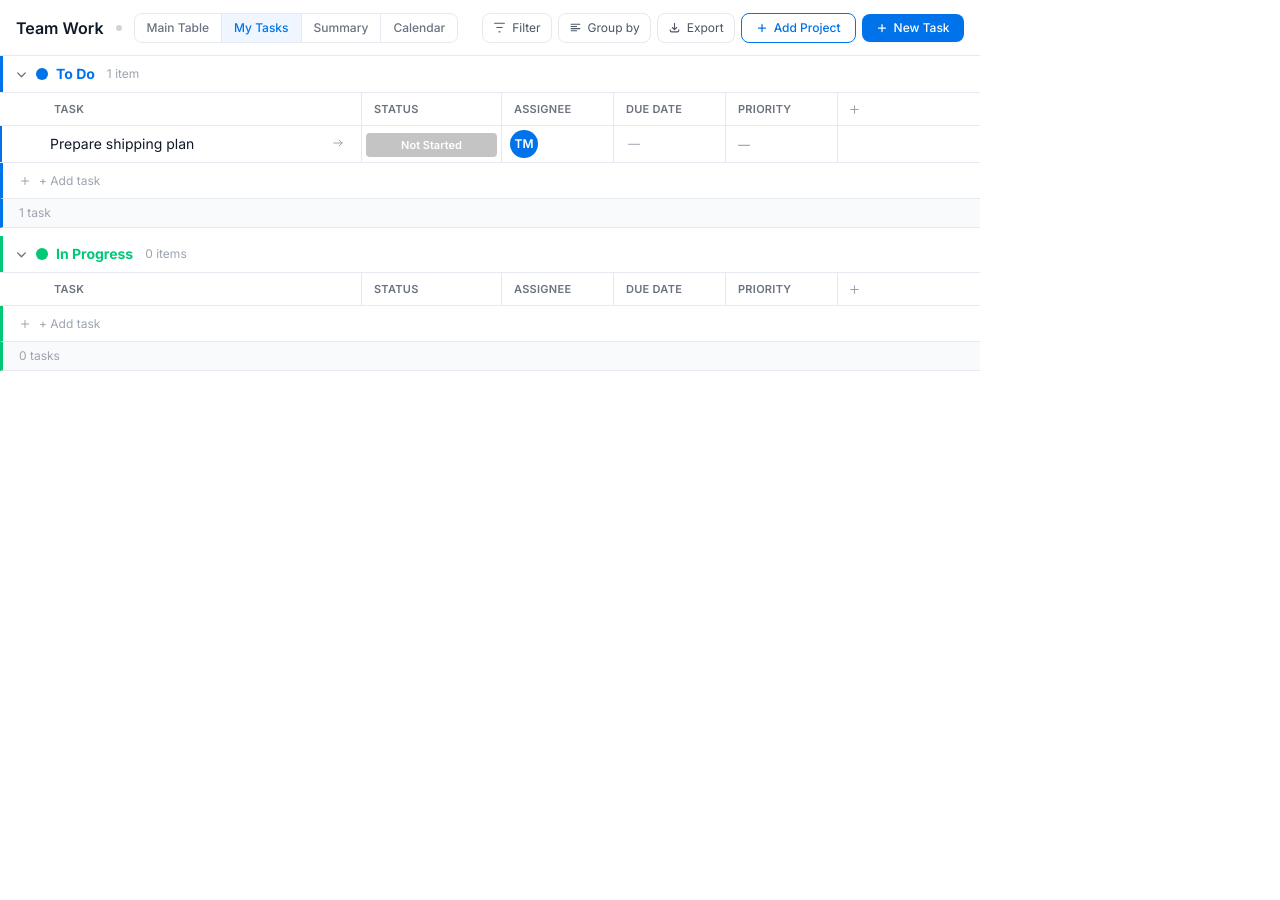
Test: moving tasks between projects through the board UI › opens task details from its name and keeps title editing in the details panel
Click the button "Prepare shipping plan" at (186, 144), box [50, 134, 323, 154]
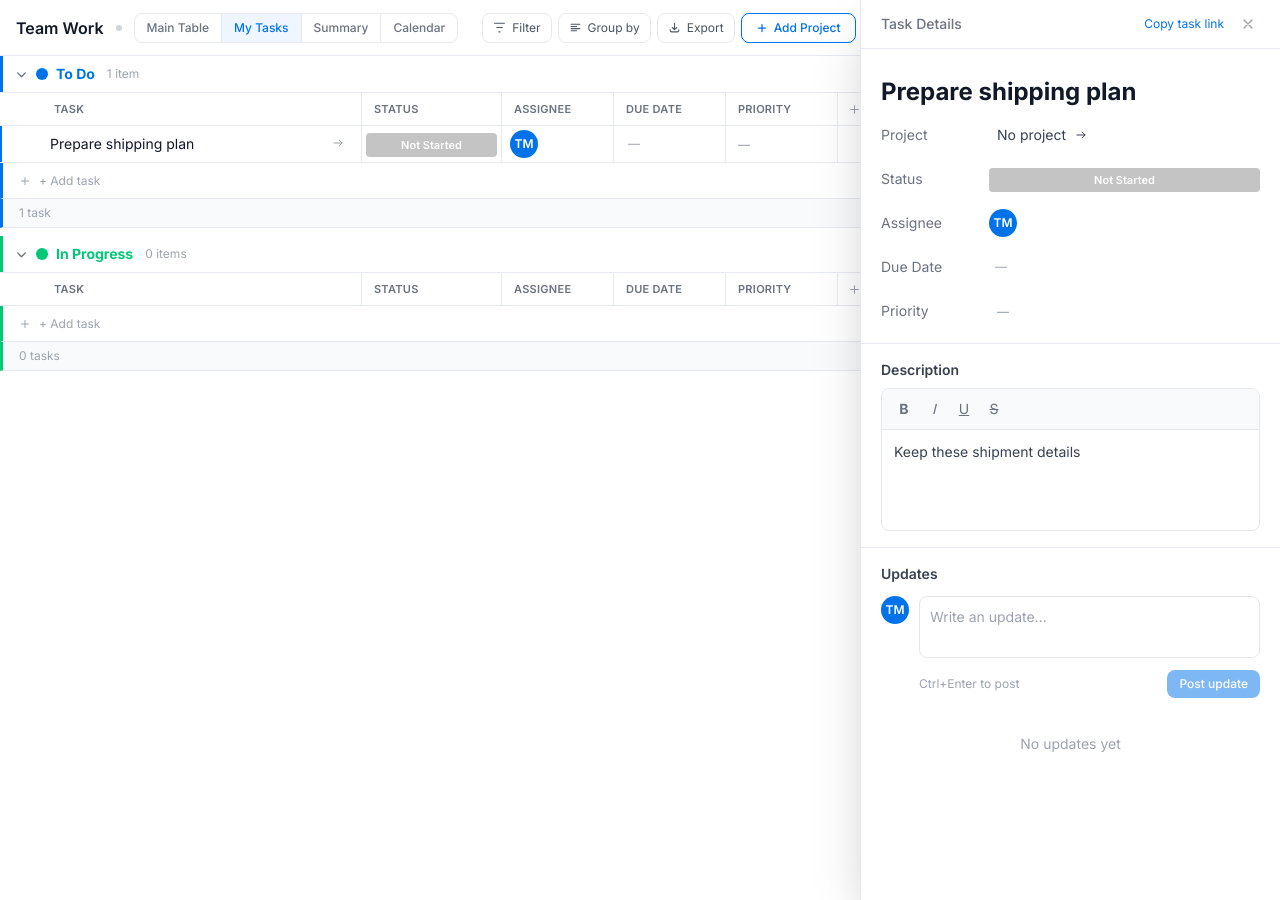
expect the text "Task Details" is shown: met, box [881, 14, 962, 34]
Click the button "Prepare shipping plan" below "Task Details" at (1070, 92), box [881, 77, 1260, 107]
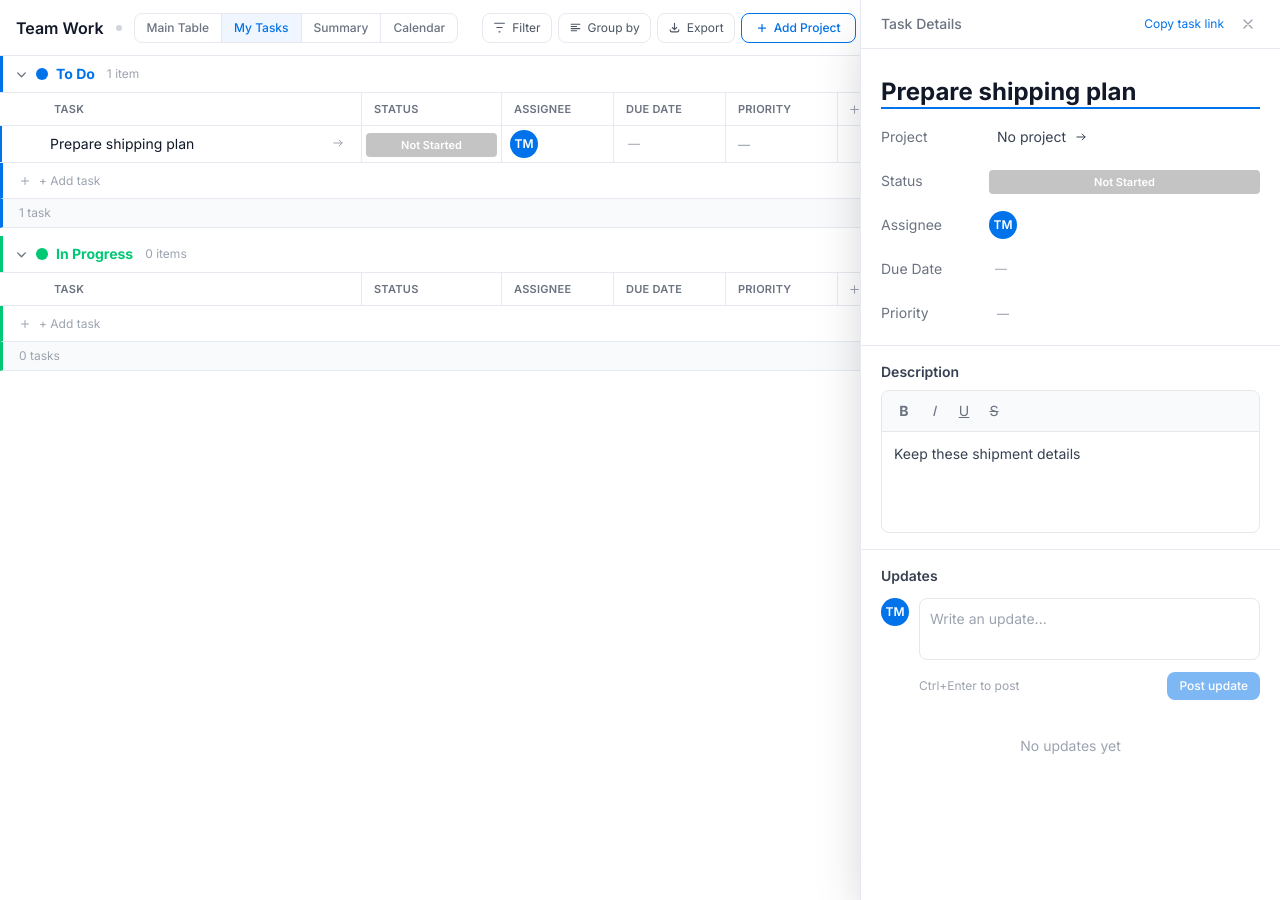
Replace the text in the field named "Task name" with "Updated shipping plan" at (1070, 93), box [881, 77, 1260, 109]
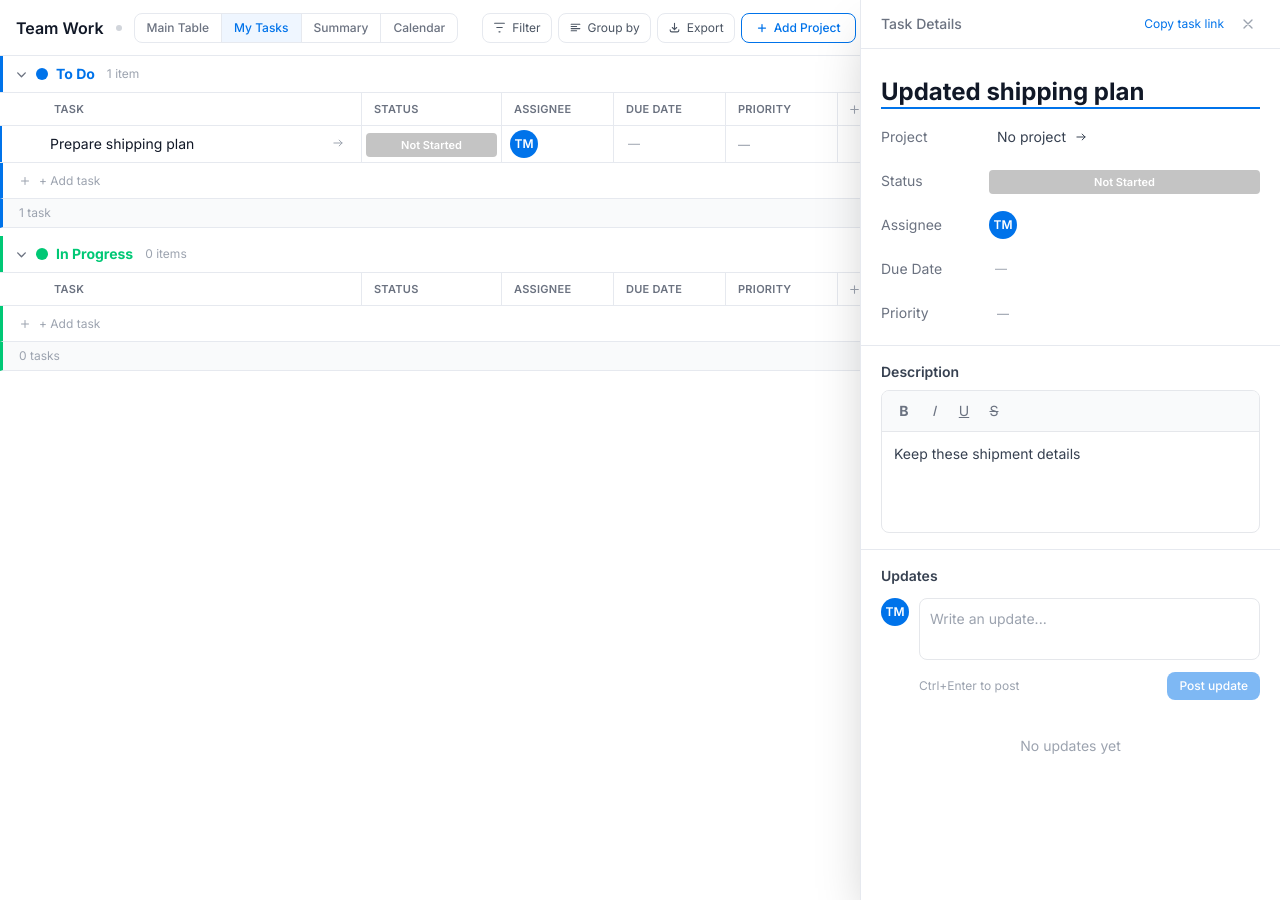
Press Enter in the field named "Task name", box [881, 77, 1260, 109]
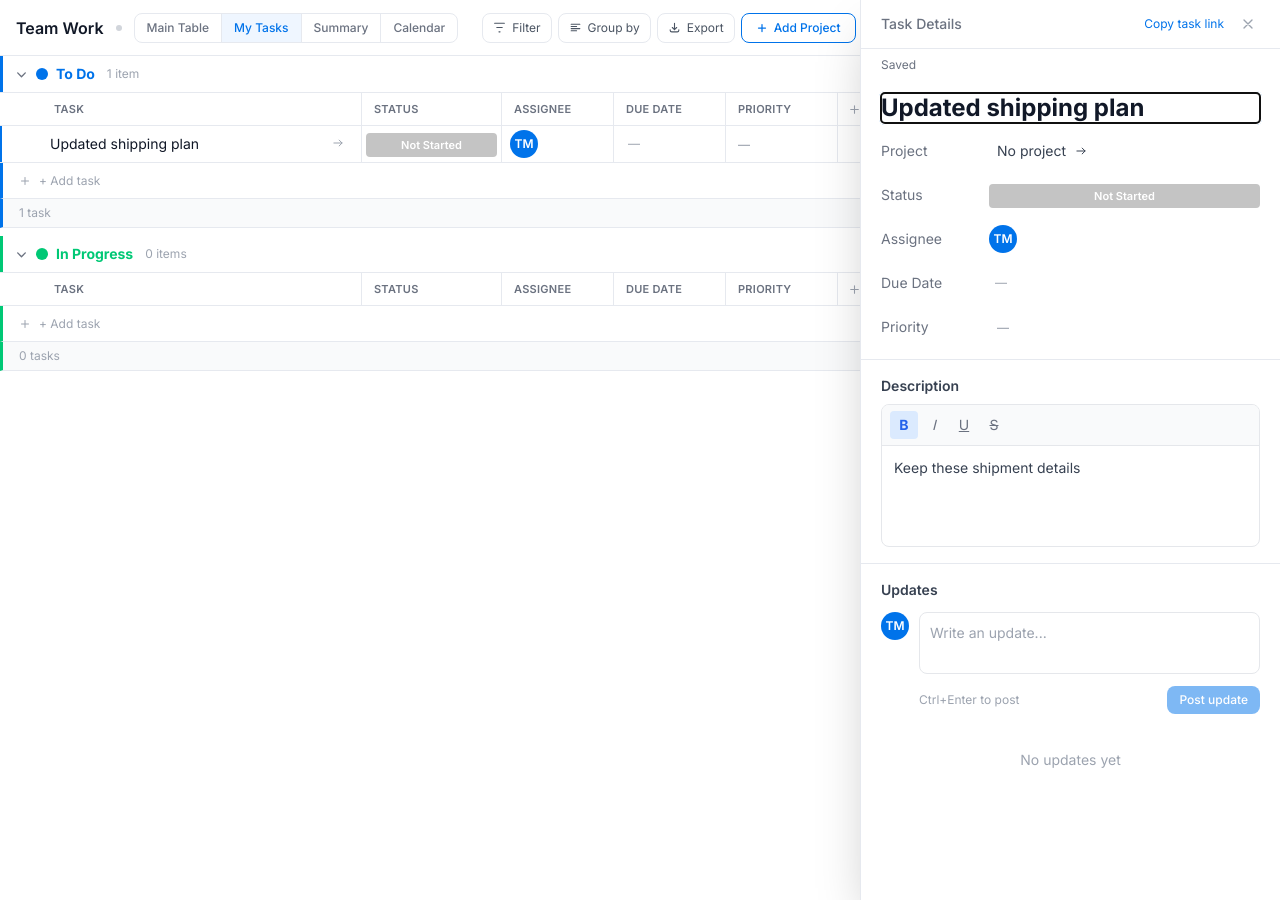
expect the button named "Prepare shipping plan" reads "Updated shipping plan": met, box [50, 134, 323, 154]
